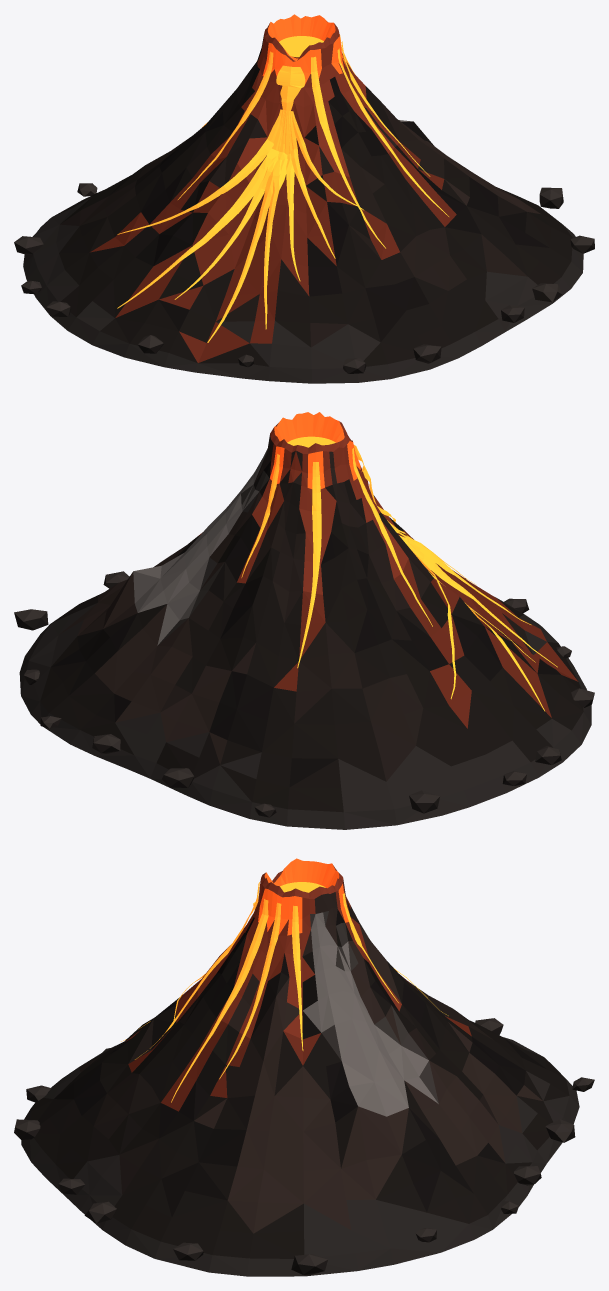
The model's file is volcano.glb.
The picture shows the model from 3 angles, top to bottom: view 1: azimuth 30°, elevation 25°; view 2: azimuth 150°, elevation 25°; view 3: azimuth 270°, elevation 25°; orthographic projection. The views are drawn at different scales.
Parts seen in each view (by area): view 1: volcano, lava_flows, lava_pool; view 2: volcano, lava_flows; view 3: volcano, lava_flows.
Boxes of the visible parts, x1,y1,x2,y2 form: volcano: [14, 14, 594, 383]; lava_flows: [117, 34, 448, 342]; lava_pool: [279, 36, 323, 57]; volcano: [14, 412, 594, 829]; lava_flows: [241, 445, 557, 711]; volcano: [14, 858, 594, 1276]; lava_flows: [121, 882, 448, 1102].
Bounding box in the file's own units: 2.32 × 1.08 × 2.1.
2 materials, 1 textured.
